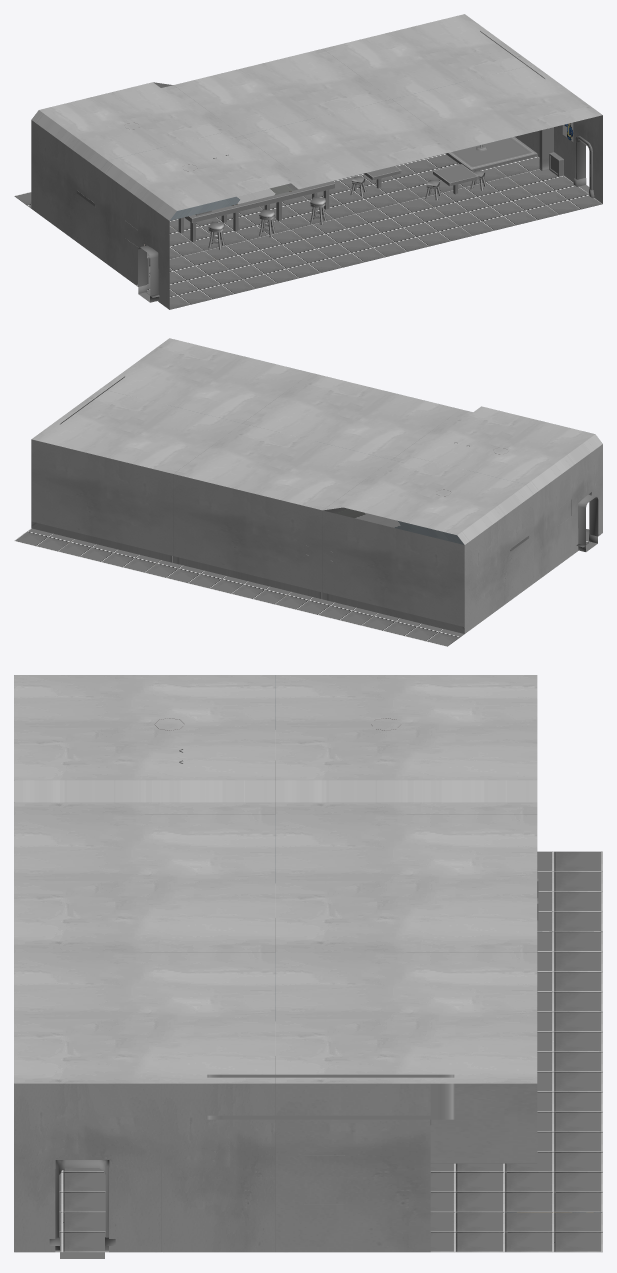
File: MSH_Bar_room_L1_R3_optimized.fbx
3 views of the same model, one above another, from view 1: azimuth 30°, elevation 25°; view 2: azimuth 150°, elevation 25°; view 3: azimuth 270°, elevation 25° (orthographic). The views are drawn at different scales.
Visible parts, largest first — view 1: lightmap1, lightmap2, lightmap-1; view 2: lightmap1, lightmap-1; view 3: lightmap1, lightmap2.
Boxes of the visible parts, x1,y1,x2,y2 form: lightmap1: [14, 14, 602, 309]; lightmap2: [76, 31, 573, 283]; lightmap-1: [138, 140, 589, 302]; lightmap1: [14, 338, 602, 646]; lightmap-1: [578, 494, 598, 551]; lightmap1: [14, 675, 602, 1252]; lightmap2: [154, 718, 538, 1204].
Bounding box in the file's own units: 30.91 × 6.45 × 18.58.
Materials: 3 (3 with a texture image).
